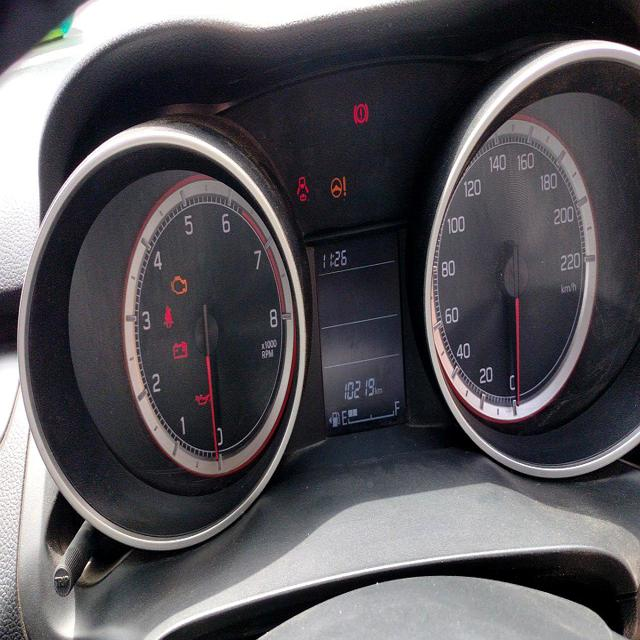odometer: (342, 375, 377, 403)
